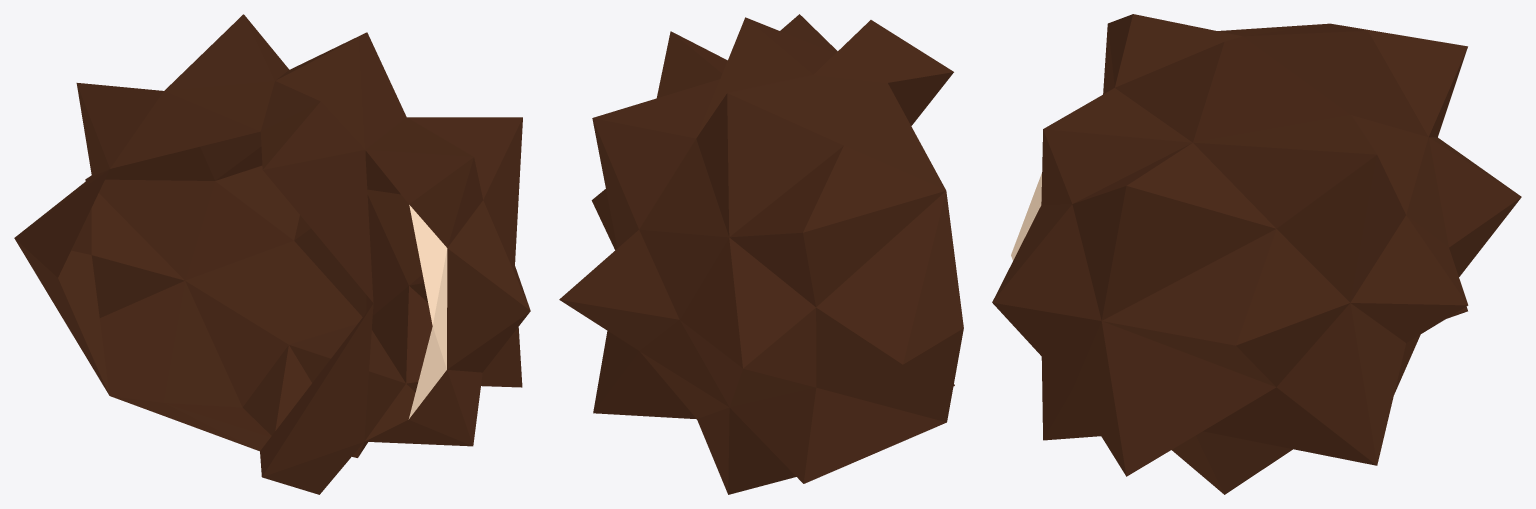
Rendered from hair12.glb.
3 views of the same model, side by side, from view 1: azimuth 30°, elevation 25°; view 2: azimuth 150°, elevation 25°; view 3: azimuth 270°, elevation 25° (orthographic). The views are drawn at different scales.
Parts seen in each view (by area): view 1: tomodachi-2026-03-10-20-23-55-401, tomodachi-2026-03-10-20-23-55-401.008; view 2: tomodachi-2026-03-10-20-23-55-401; view 3: tomodachi-2026-03-10-20-23-55-401, tomodachi-2026-03-10-20-23-55-401.008.
Part boxes in pixels (bbox=[...]): tomodachi-2026-03-10-20-23-55-401: bbox=[14, 14, 530, 494]; tomodachi-2026-03-10-20-23-55-401.008: bbox=[408, 205, 447, 419]; tomodachi-2026-03-10-20-23-55-401: bbox=[559, 14, 963, 494]; tomodachi-2026-03-10-20-23-55-401: bbox=[992, 14, 1521, 494]; tomodachi-2026-03-10-20-23-55-401.008: bbox=[1011, 173, 1041, 260].
Bounding box in the file's own units: 1.37 × 1.37 × 1.45.
Materials: 2 (2 with a texture image).
